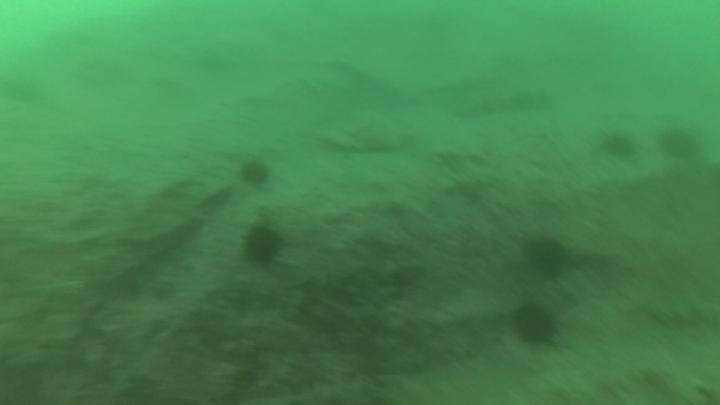echinus: (510, 300, 560, 348), (521, 234, 571, 280), (239, 222, 285, 269), (655, 124, 701, 163), (1, 72, 43, 107), (599, 128, 639, 162), (237, 157, 273, 190)
